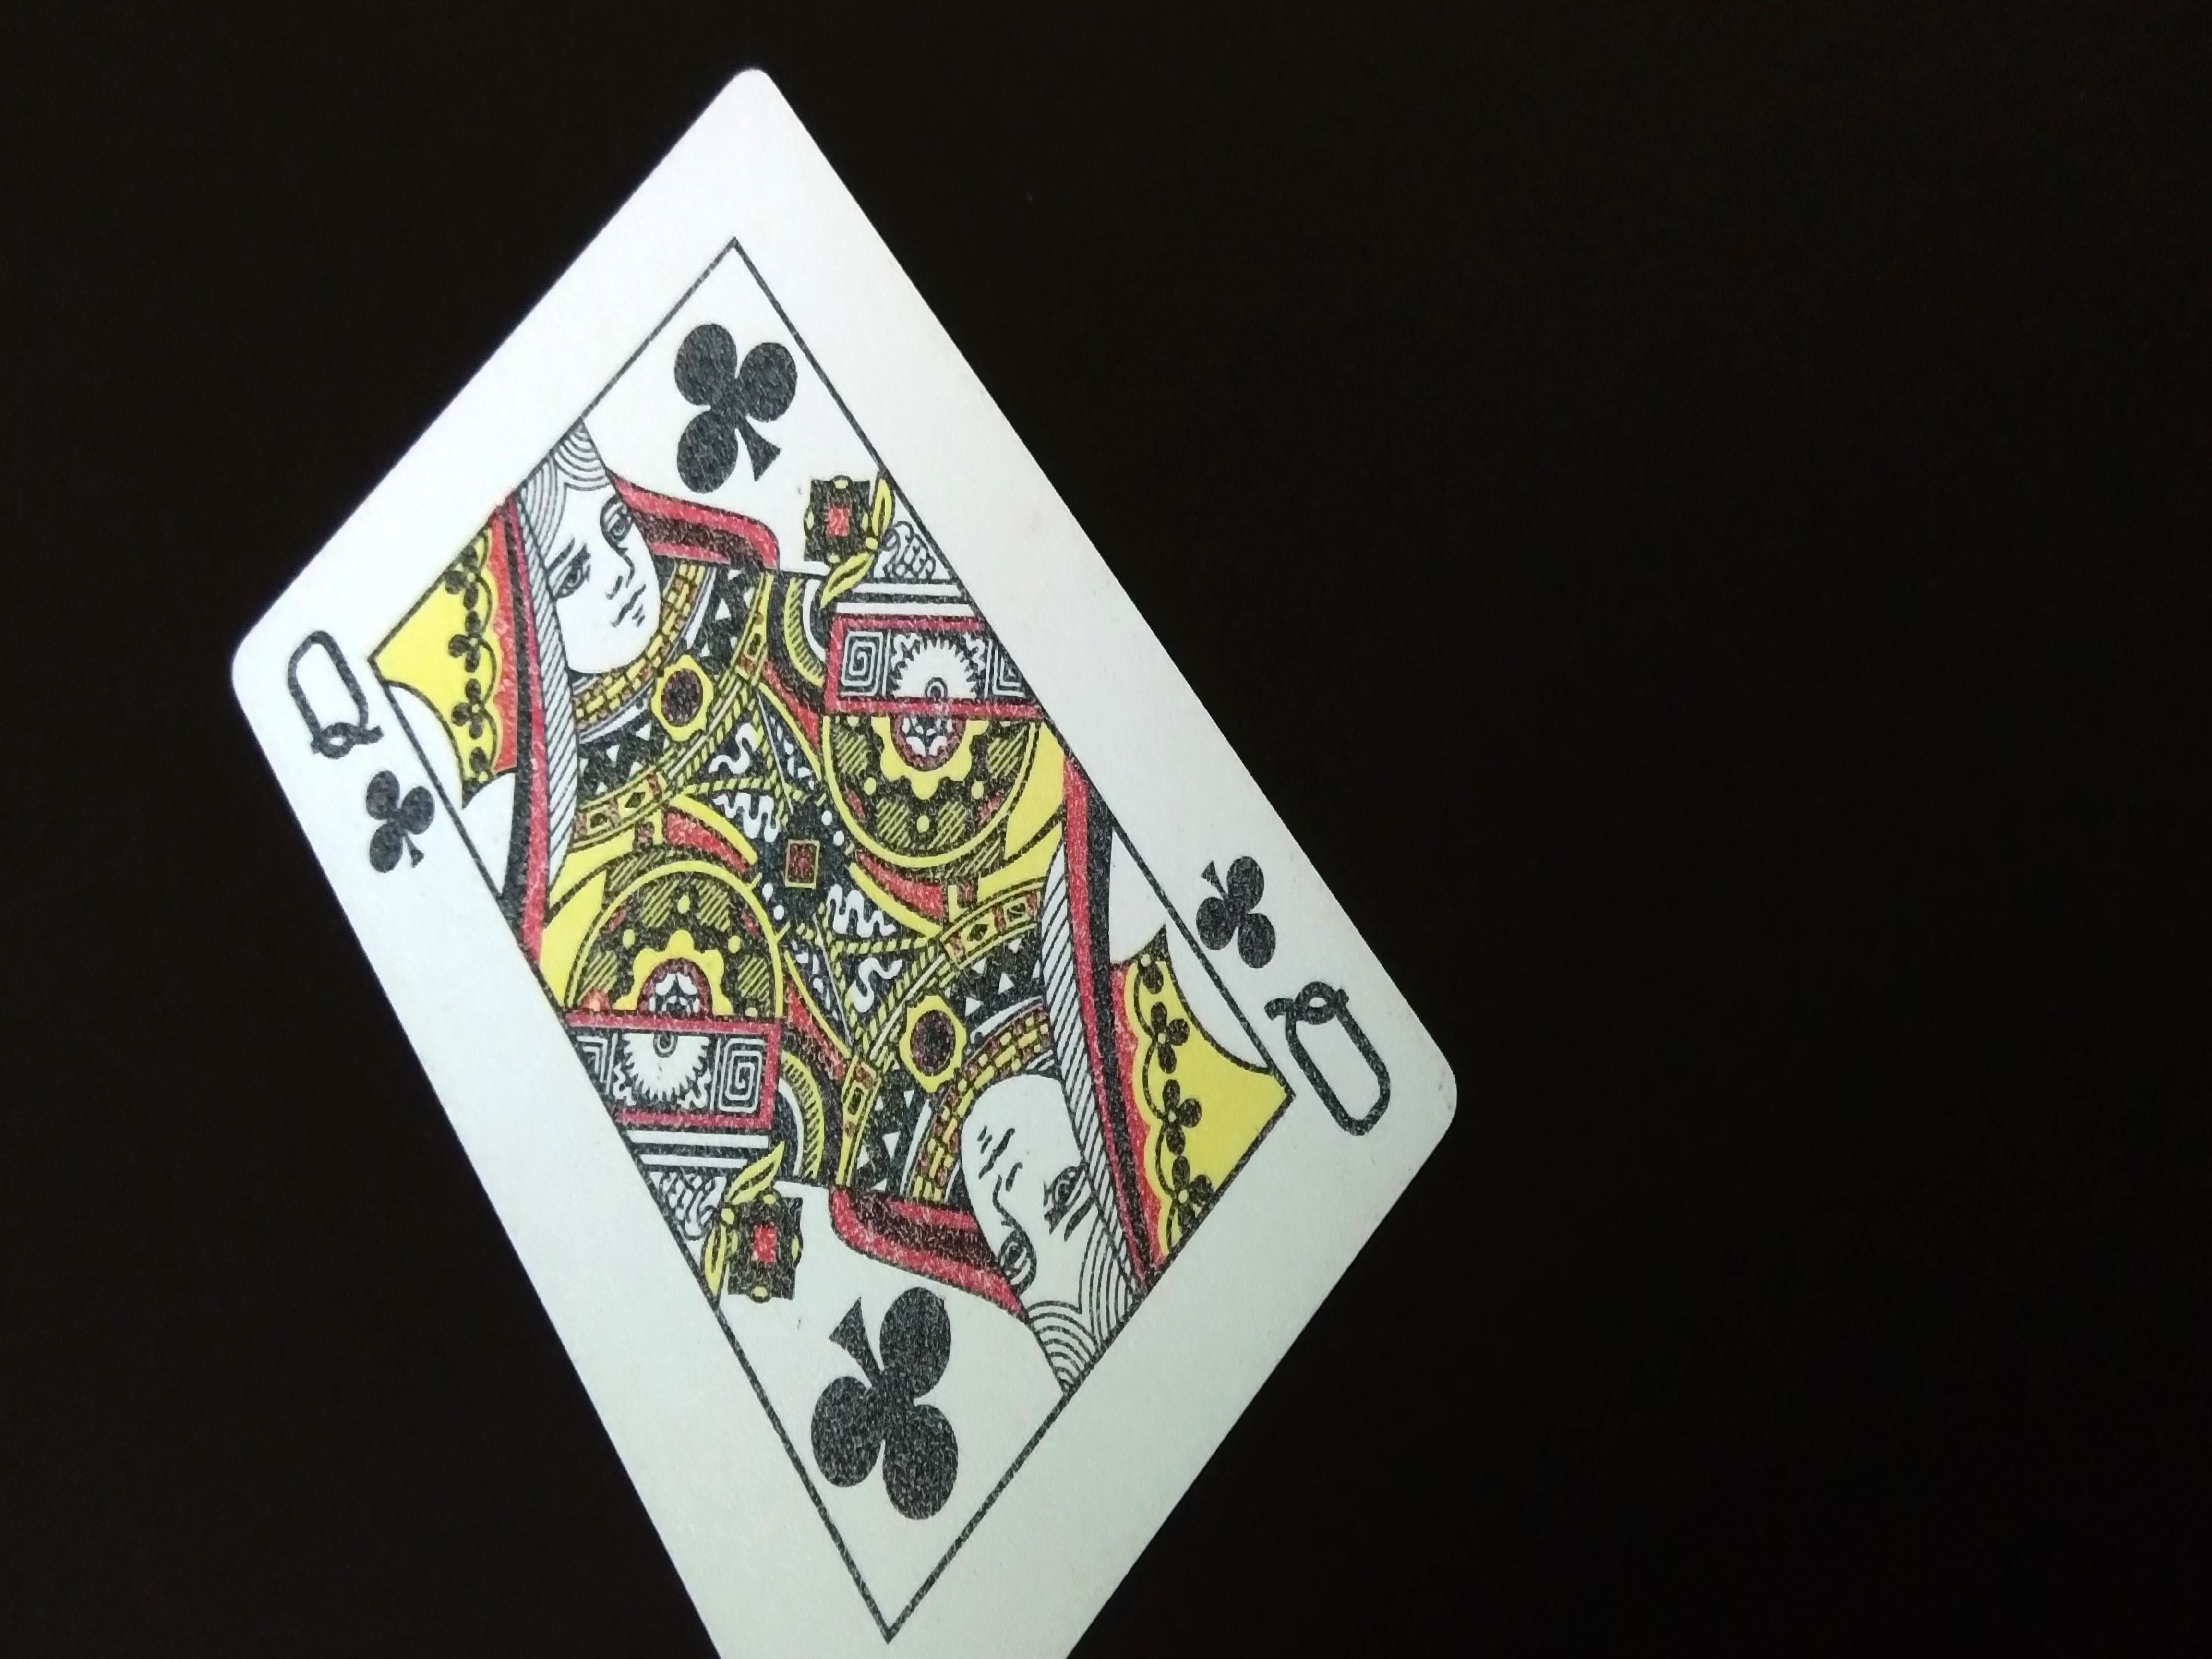QC: (279, 634, 432, 878)
